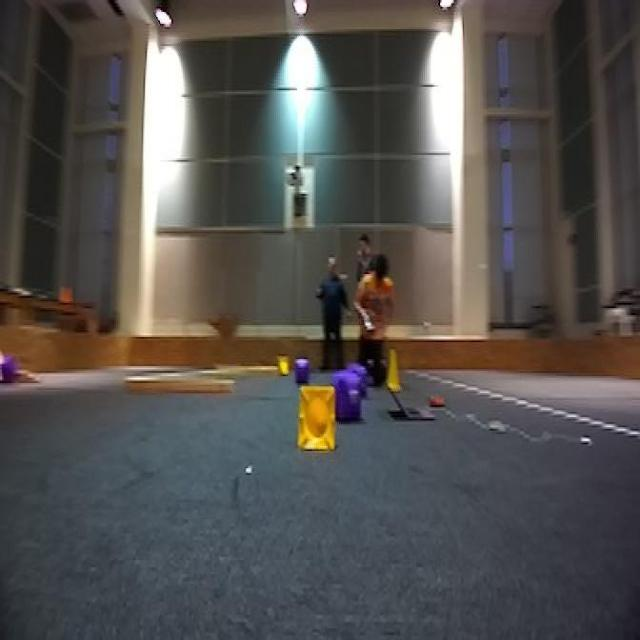frc_cone: (296, 381, 344, 460), (384, 349, 404, 390), (276, 351, 294, 378)
frc_cube: (338, 372, 365, 418), (352, 368, 370, 393), (292, 356, 310, 378)
